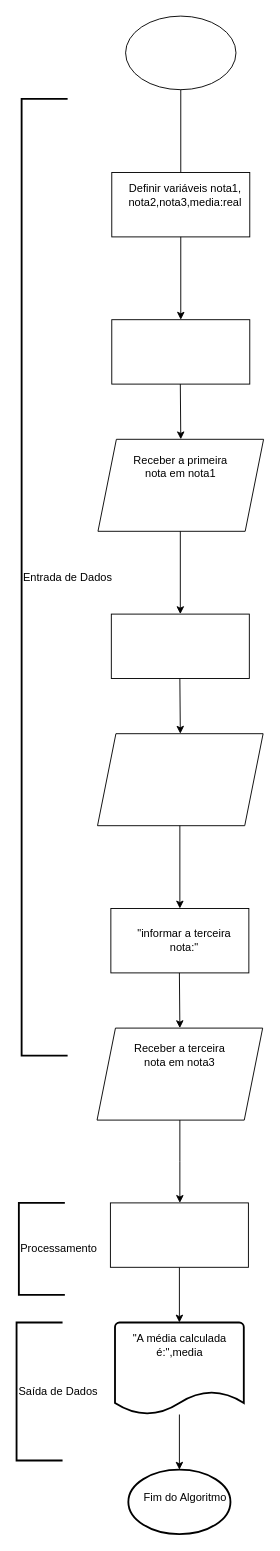
Some shapes in this 280 by 1551 pixel diagram are drawn without their labels. The box of each missing label's shape, as (x1, y1, x2, y2) in pixels:
"informar a primeira nota:": (111, 319, 250, 384)
"informar a segunda nota:": (110, 613, 249, 678)
Calcular media = (nota1 + nota2 + nota3) / 3: (109, 1202, 248, 1267)
Inicio: (125, 15, 236, 90)
Receber a segunda nota em nota2: (97, 733, 263, 826)
